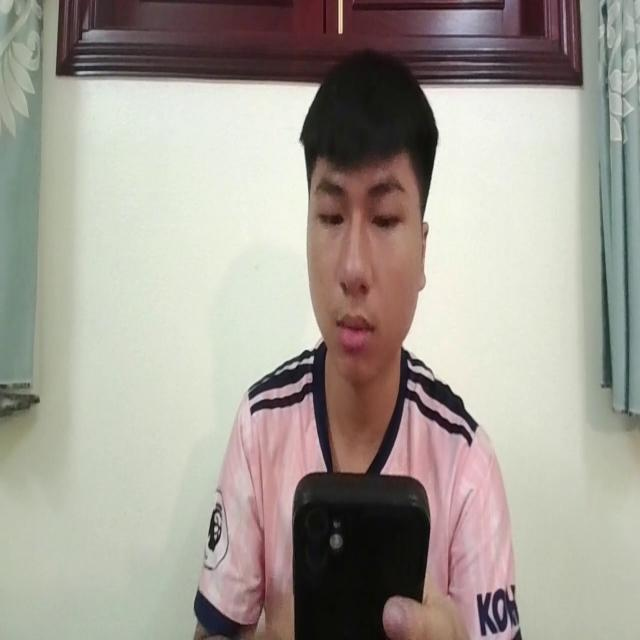phone: (286, 461, 428, 640)
student: (192, 37, 522, 640)
